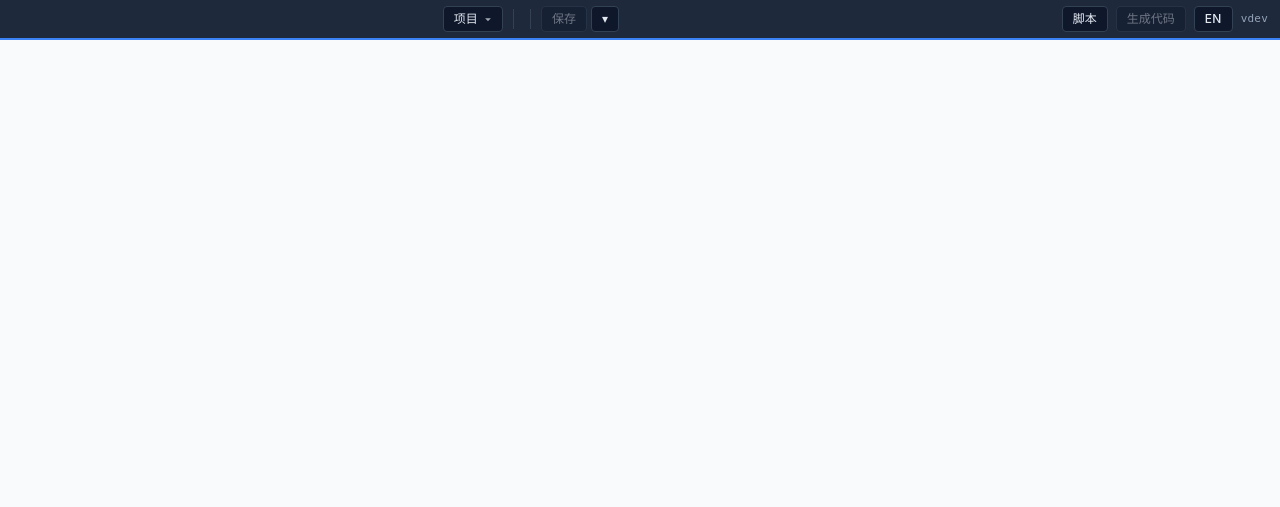
Test: AppHeader DBC menu entry (Bug #5) › "Open DBC…" appears in File Operations when the menu opens
The image size is (1280, 507).
# Open the menu by clicking the trigger.
Click the button with test id "btn-menu-toggle" at coordinates (473, 19), box [443,6,503,32]
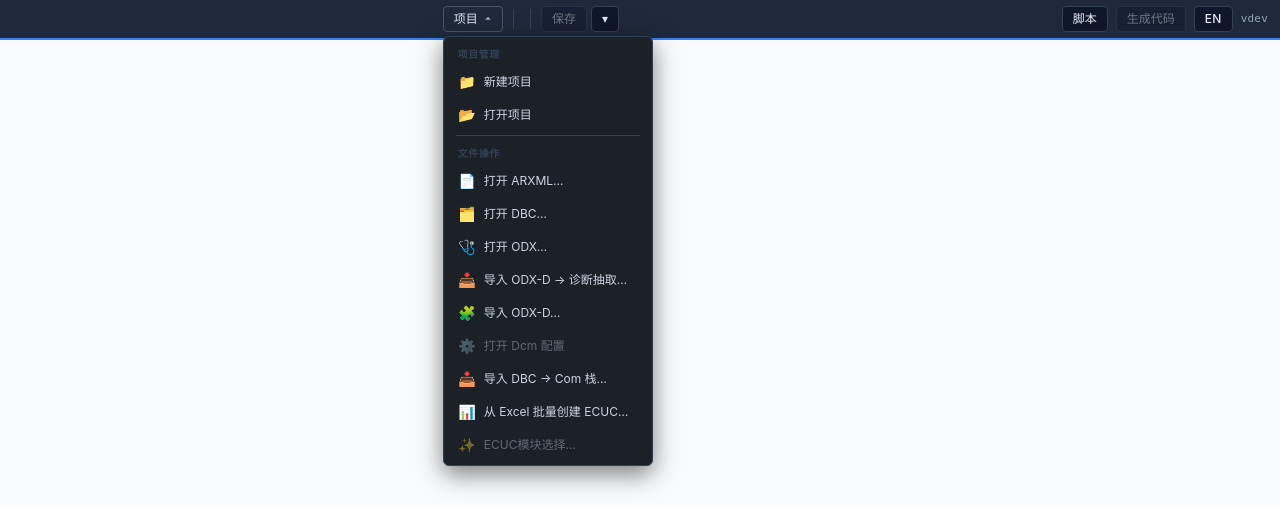
expect the menu item with test id "btn-open-dbc" is shown: met, box [448,197,648,230]
